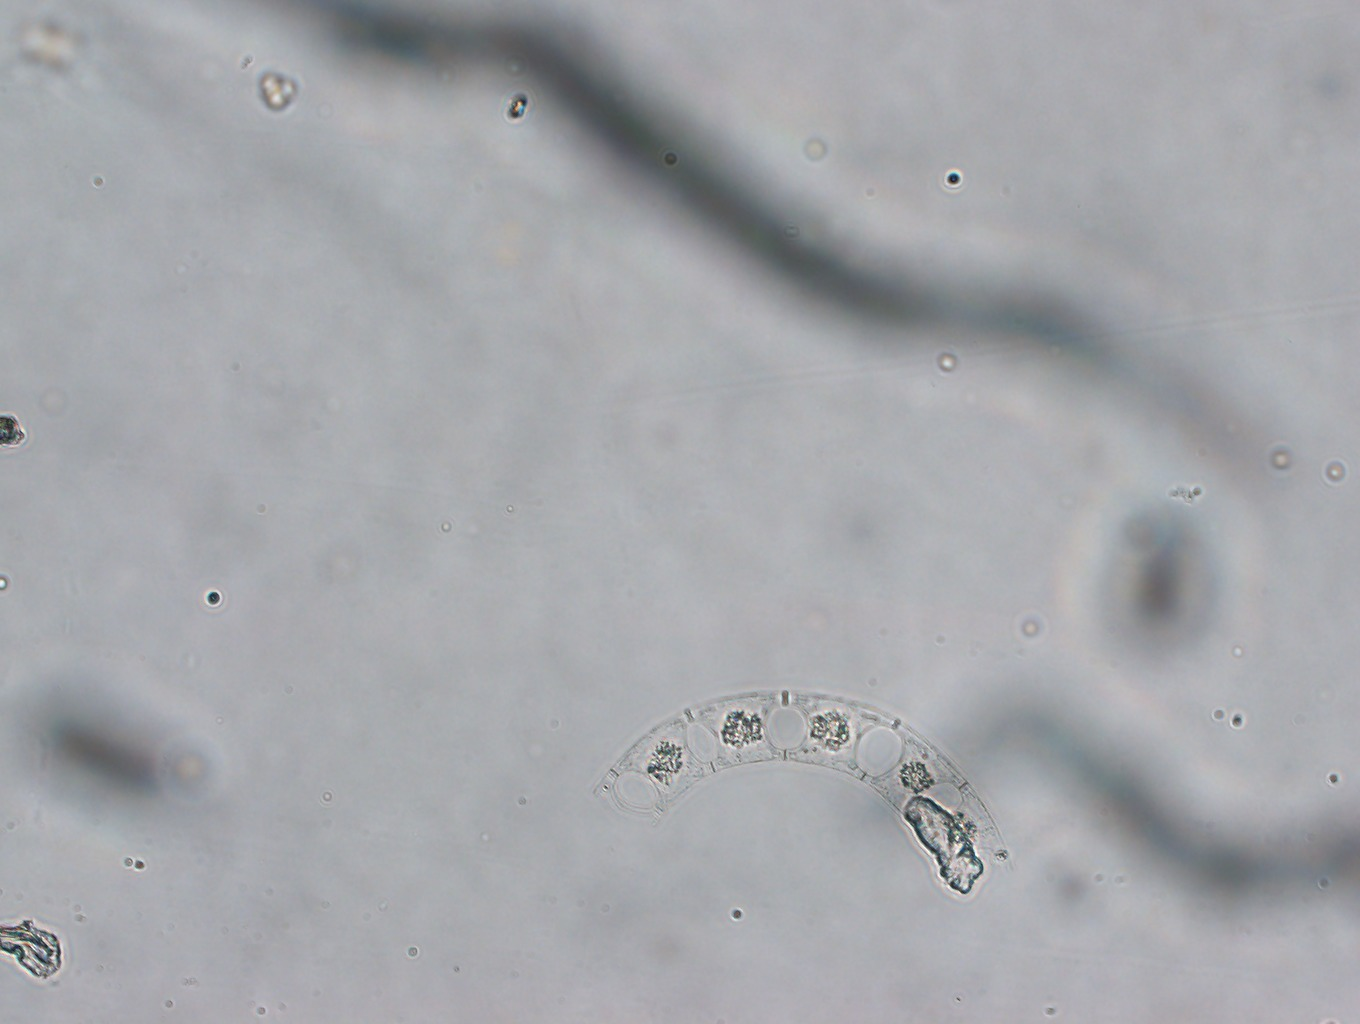eucampia: (592, 679, 1010, 878)
